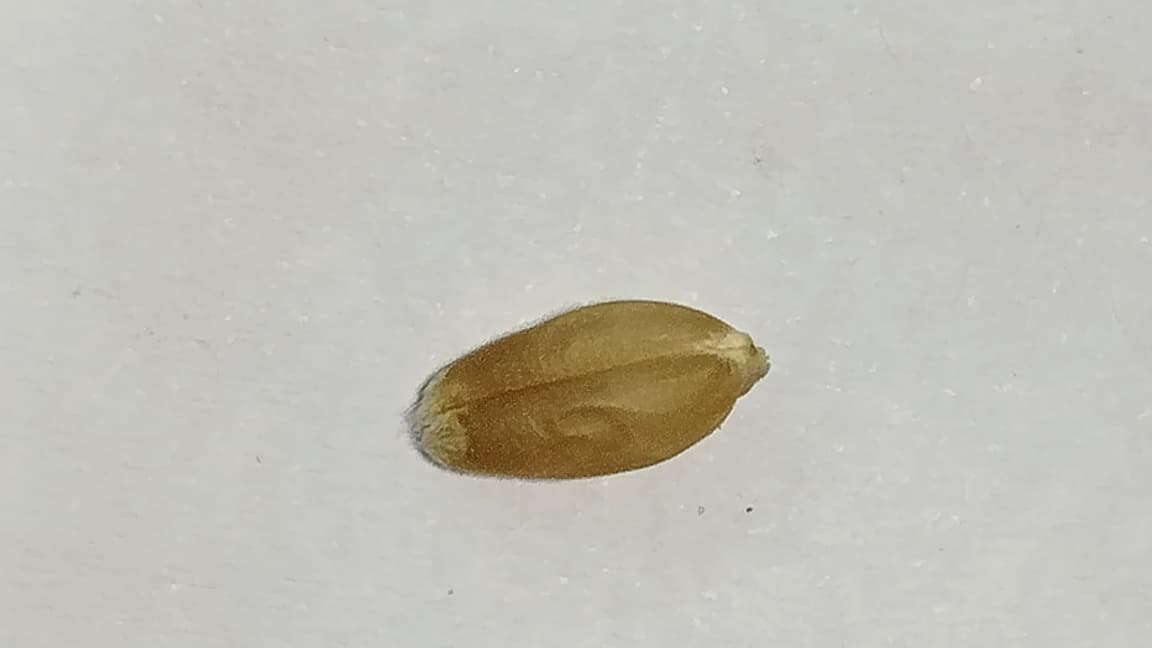healthy: (413, 302, 768, 478)
